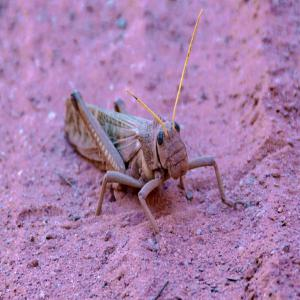locust: (72, 48, 209, 211)
